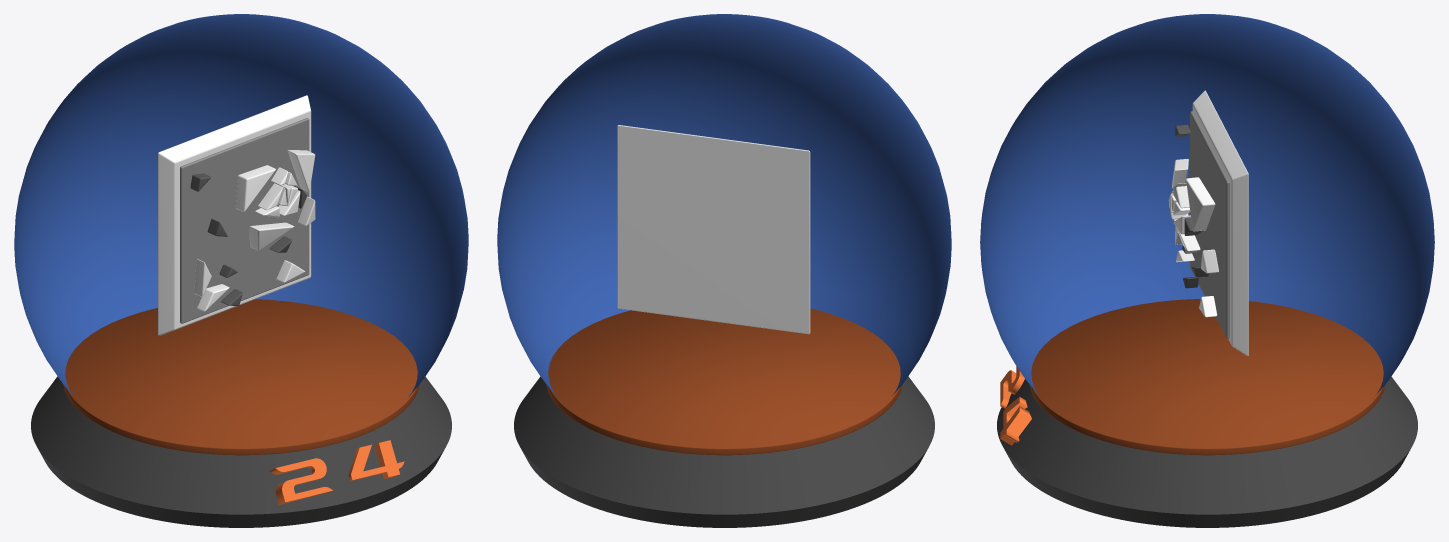
Rendered from Curio_24.glb.
3 views of the same model, side by side, from view 1: azimuth 30°, elevation 25°; view 2: azimuth 150°, elevation 25°; view 3: azimuth 270°, elevation 25° (orthographic).
Visible parts, largest first — view 1: Sphere.080, Sphere.079, Sphere.078, Plane.004, Text.031; view 2: Sphere.080, Sphere.079, Plane.004, Sphere.078; view 3: Sphere.080, Sphere.079, Sphere.078, Plane.004, Text.031.
Part boxes in pixels (<box>): Sphere.080: <box>14,14,468,397</box>; Sphere.079: <box>63,299,419,455</box>; Sphere.078: <box>31,376,451,527</box>; Plane.004: <box>158,95,315,335</box>; Text.031: <box>269,440,404,504</box>; Sphere.080: <box>497,14,951,397</box>; Sphere.079: <box>546,308,902,455</box>; Plane.004: <box>617,125,810,334</box>; Sphere.078: <box>514,376,934,527</box>; Sphere.080: <box>980,14,1434,395</box>; Sphere.079: <box>1029,299,1385,455</box>; Sphere.078: <box>997,376,1417,527</box>; Plane.004: <box>1168,90,1248,356</box>; Text.031: <box>1000,366,1031,445</box>.
Size of the model in its own units: 4.66 by 4.62 by 4.66.
